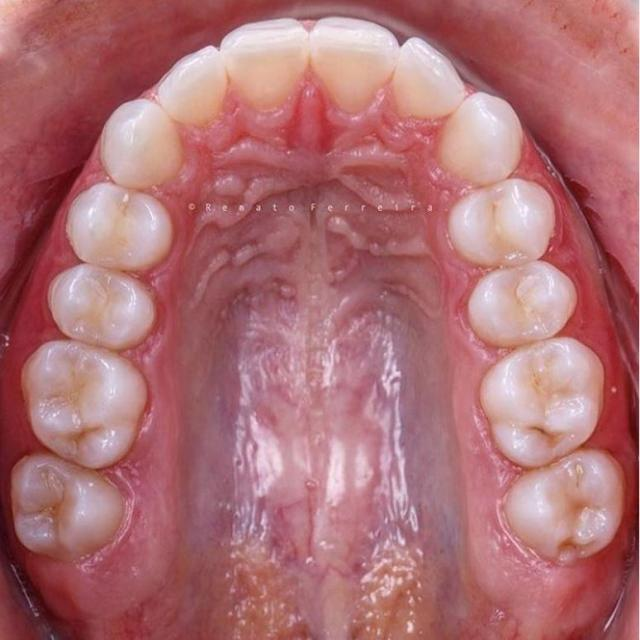1st Molar: (480, 336, 604, 468), (21, 342, 147, 471)
1st Premolar: (449, 179, 554, 270), (67, 185, 174, 270)
2nd Molar: (505, 451, 626, 564), (9, 455, 124, 561)
2nd Premolar: (470, 265, 577, 349), (50, 267, 157, 351)
Canine: (439, 93, 523, 187), (97, 100, 183, 191)
Central Incisor: (311, 18, 399, 115), (221, 20, 309, 113)
Lateral Incisor: (153, 46, 226, 128), (396, 37, 467, 120)
